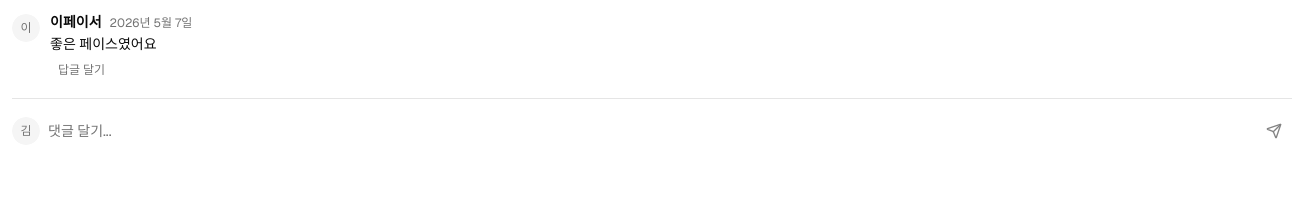
Scenario: CommentList query and mutation migration › preserves reply input state and shows a visible message when comment creation fails
Expected: the text "좋은 페이스였어요" is shown, [50,35,156,53]
Step 1. Click the button "답글 달기" → x=82, y=70, box [50,58,113,82]
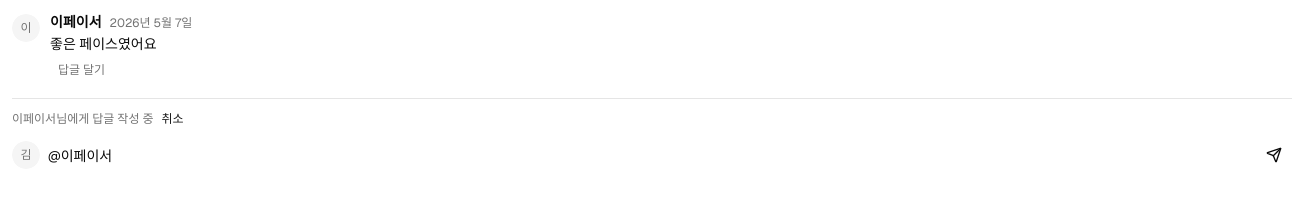
Step 2. Type "감사합니다" into the field with placeholder "댓글 달기..." → x=648, y=155, box [48,135,1248,175]
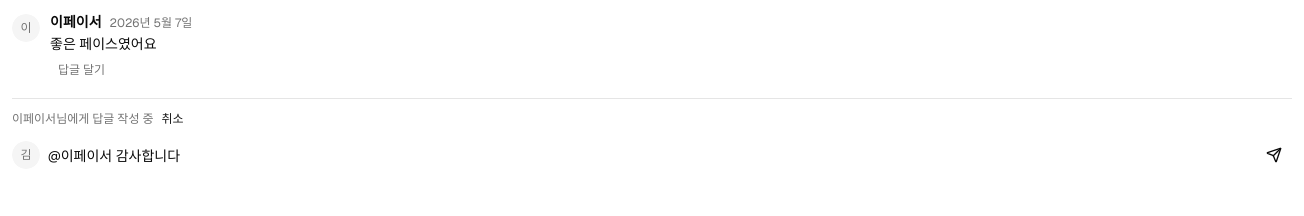
Step 3. Press Enter
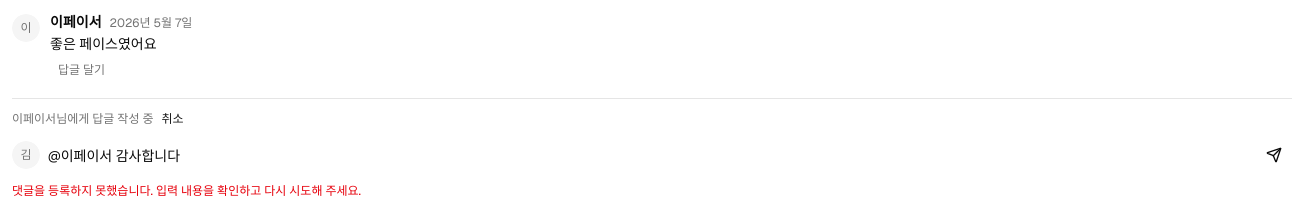
Now the text "이페이서님에게 답글 작성 중" is shown, box [12,111,154,127]
Now the field with placeholder "댓글 달기..." holds "@이페이서 감사합니다", box [48,135,1248,175]
Now the text "댓글을 등록하지 못했습니다. 입력 내용을 확인하고 다시 시도해 주세요." is shown, box [12,183,361,199]
